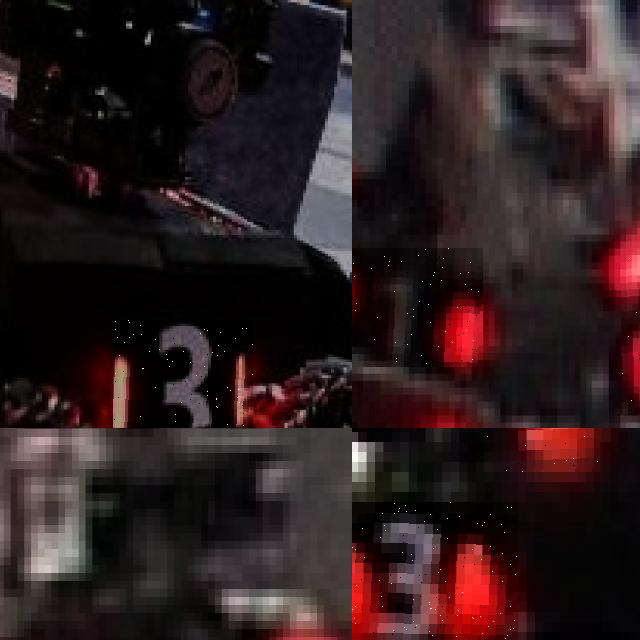R1: (352, 248, 483, 366)
R3: (352, 502, 518, 640), (113, 319, 253, 428), (484, 428, 602, 472)
